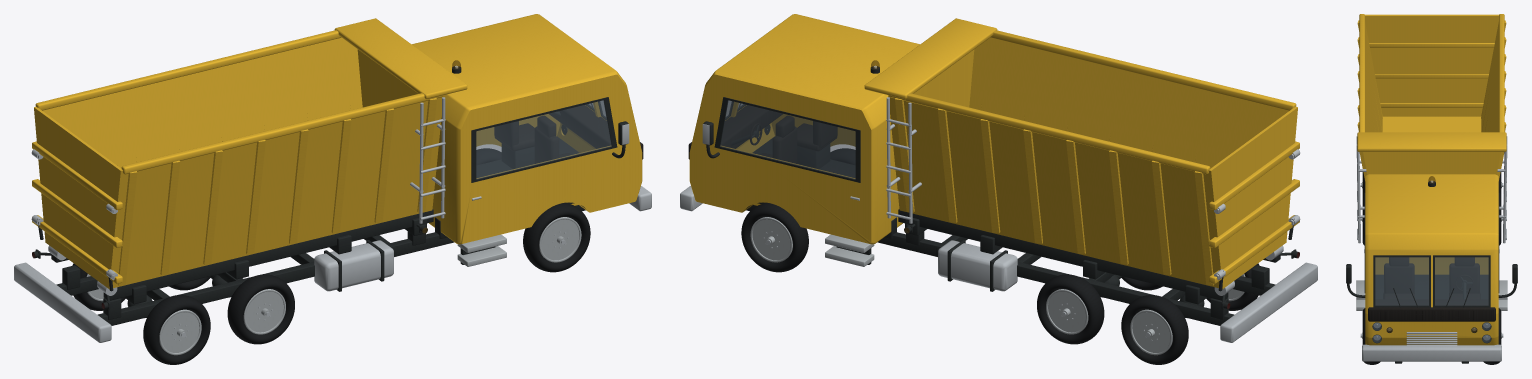
The model's file is dump-truck.glb.
3 views of the same model, side by side, from view 1: azimuth 30°, elevation 25°; view 2: azimuth 150°, elevation 25°; view 3: azimuth 270°, elevation 25° (orthographic). The views are drawn at different scales.
Visible parts, largest first — view 1: Closed tailgate horizontal rib 1610, Shaped hollow cab with cut wheel arches and true glazing ape, Apparatus lamp 1 0 closed optical housing, Cab 1 side window finite glazing, Cab door 1 recessed handle, Cab seat 1 backrest, Axle 2 right wheel rounded tyre carcass, Axle 3 right wheel rounded tyre carcass, Axle 1 right wheel rounded tyre carcass, Hopper access ladder rail 1 720, Axle 3 right wheel bearing hub, Axle 1 right wheel bearing hub (+2 smaller); view 2: Closed tailgate horizontal rib 1610, Shaped hollow cab with cut wheel arches and true glazing ape, Apparatus lamp 1 0 closed optical housing, Cab 1 side window finite glazing, Cab door 1 recessed handle, Cab seat 1 backrest, Axle 2 left wheel rounded tyre carcass, Axle 3 left wheel rounded tyre carcass, Axle 1 left wheel rounded tyre carcass, Hopper access ladder rail 1 720, Axle 1 left wheel bearing hub, Axle 3 left wheel bearing hub (+2 smaller); view 3: Closed tailgate horizontal rib 1610, Shaped hollow cab with cut wheel arches and true glazing ape, Cab 1 side window finite glazing, Cab seat 1 backrest, Apparatus lamp 1 0 closed optical housing, Cab door 1 recessed handle, Hopper access ladder rail 1 720, Cab access step 1 0, Forward headlamp 1 0 finite curved optic, Axle 1 left wheel rounded tyre carcass, Axle 1 right wheel rounded tyre carcass.
Part boxes in pixels (<box>): Closed tailgate horizontal rib 1610: <box>32,18,467,289</box>; Shaped hollow cab with cut wheel arches and true glazing ape: <box>412,14,642,244</box>; Apparatus lamp 1 0 closed optical housing: <box>32,66,628,325</box>; Cab 1 side window finite glazing: <box>476,100,611,179</box>; Cab door 1 recessed handle: <box>14,124,651,342</box>; Cab seat 1 backrest: <box>494,105,643,163</box>; Axle 2 right wheel rounded tyre carcass: <box>227,274,294,344</box>; Axle 3 right wheel rounded tyre carcass: <box>143,295,210,364</box>; Axle 1 right wheel rounded tyre carcass: <box>523,202,590,272</box>; Hopper access ladder rail 1 720: <box>31,97,445,280</box>; Axle 3 right wheel bearing hub: <box>159,309,201,355</box>; Axle 1 right wheel bearing hub: <box>539,217,581,262</box>; Closed tailgate horizontal rib 1610: <box>864,18,1299,289</box>; Shaped hollow cab with cut wheel arches and true glazing ape: <box>689,14,919,244</box>; Apparatus lamp 1 0 closed optical housing: <box>703,66,1299,325</box>; Cab 1 side window finite glazing: <box>720,100,855,179</box>; Cab door 1 recessed handle: <box>680,124,1317,342</box>; Cab seat 1 backrest: <box>688,105,837,163</box>; Axle 2 left wheel rounded tyre carcass: <box>1037,274,1104,344</box>; Axle 3 left wheel rounded tyre carcass: <box>1121,295,1188,364</box>; Axle 1 left wheel rounded tyre carcass: <box>741,202,808,272</box>; Hopper access ladder rail 1 720: <box>886,97,1300,280</box>; Axle 1 left wheel bearing hub: <box>750,217,792,262</box>; Axle 3 left wheel bearing hub: <box>1130,309,1172,355</box>; Closed tailgate horizontal rib 1610: <box>1357,14,1506,180</box>; Shaped hollow cab with cut wheel arches and true glazing ape: <box>1365,174,1498,345</box>; Cab 1 side window finite glazing: <box>1375,257,1488,305</box>; Cab seat 1 backrest: <box>1368,257,1495,321</box>; Apparatus lamp 1 0 closed optical housing: <box>1346,181,1517,363</box>; Cab door 1 recessed handle: <box>1346,249,1517,361</box>; Hopper access ladder rail 1 720: <box>1356,136,1507,243</box>; Cab access step 1 0: <box>1356,280,1507,310</box>; Forward headlamp 1 0 finite curved optic: <box>1372,322,1491,342</box>; Axle 1 left wheel rounded tyre carcass: <box>1483,308,1501,364</box>; Axle 1 right wheel rounded tyre carcass: <box>1362,308,1380,364</box>.
Bounding box in the file's own units: 9.18 × 3.42 × 3.04.
Materials: 12 (8 with a texture image).
